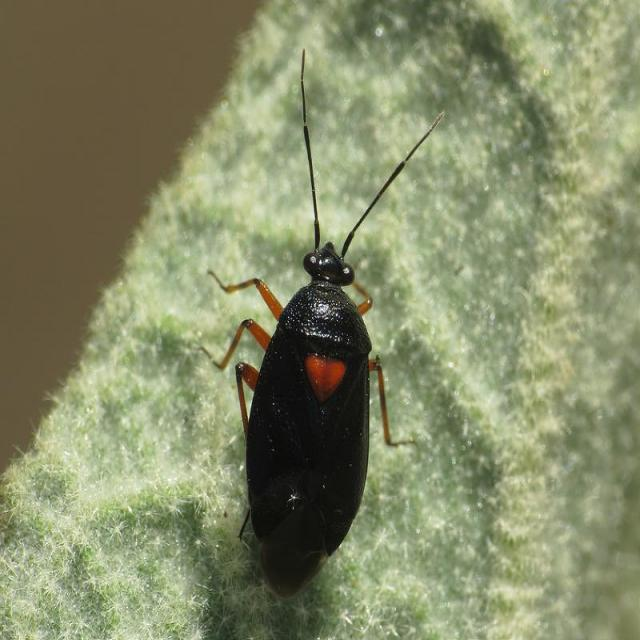Miridae-Adult-: (187, 42, 460, 607)
